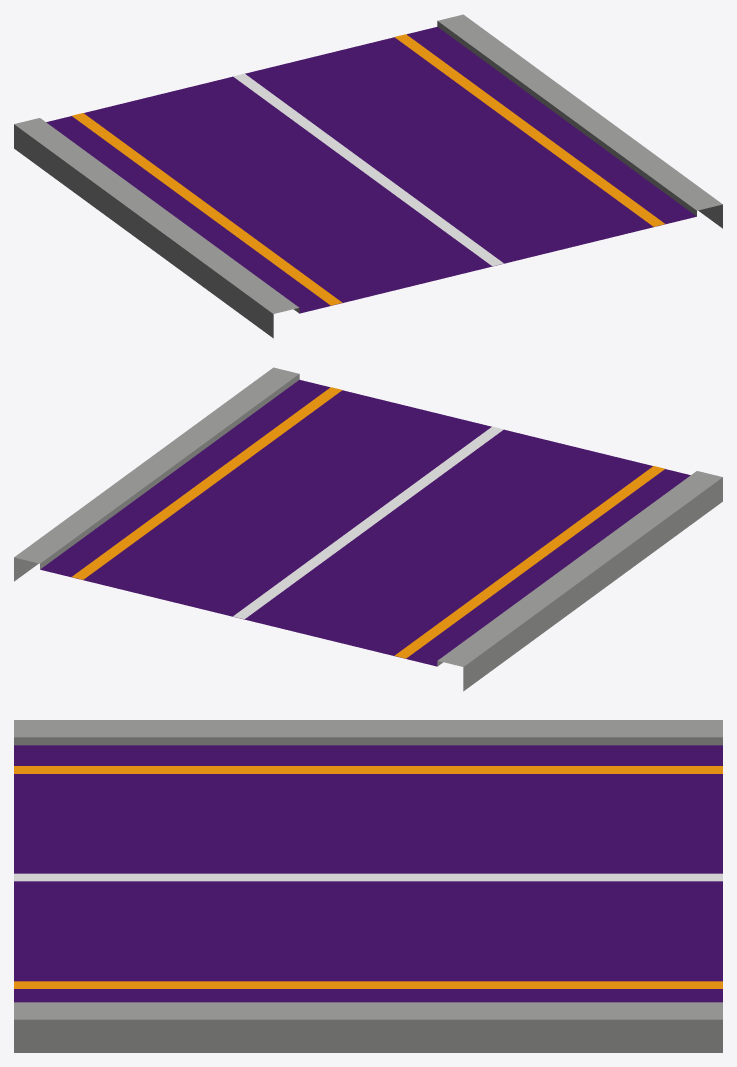
The model's file is Road_C_2.fbx.
3 views of the same model, one above another, from view 1: azimuth 30°, elevation 25°; view 2: azimuth 150°, elevation 25°; view 3: azimuth 270°, elevation 25° (orthographic). The views are drawn at different scales.
Parts seen in each view (by area): view 1: Road_C_2; view 2: Road_C_2; view 3: Road_C_2.
Part boxes in pixels (<box>): Road_C_2: <box>14,14,722,338</box>; Road_C_2: <box>14,367,722,691</box>; Road_C_2: <box>14,720,722,1052</box>.
Size of the model in its own units: 800 by 41.48 by 800.
